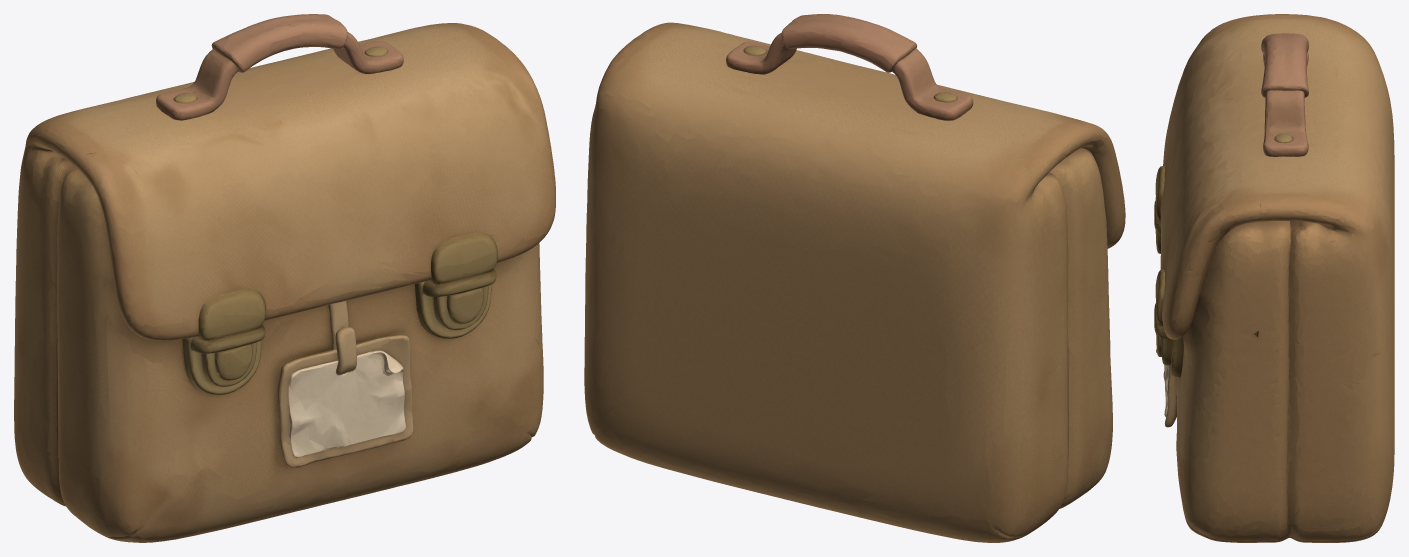
Rendered from t1-canvas.original.glb.
The picture shows the model from 3 angles, left to right: view 1: azimuth 30°, elevation 25°; view 2: azimuth 150°, elevation 25°; view 3: azimuth 270°, elevation 25°; orthographic projection. The views are drawn at different scales.
Visible parts, largest first — view 1: mesh_node; view 2: mesh_node; view 3: mesh_node.
Part boxes in pixels (left/top/right/bottom): mesh_node: left=14, top=14, right=555, bottom=542; mesh_node: left=584, top=14, right=1125, bottom=542; mesh_node: left=1154, top=14, right=1394, bottom=542.
Size of the model in its own units: 1.9 by 1.83 by 0.9551.
1 material, 1 textured.
